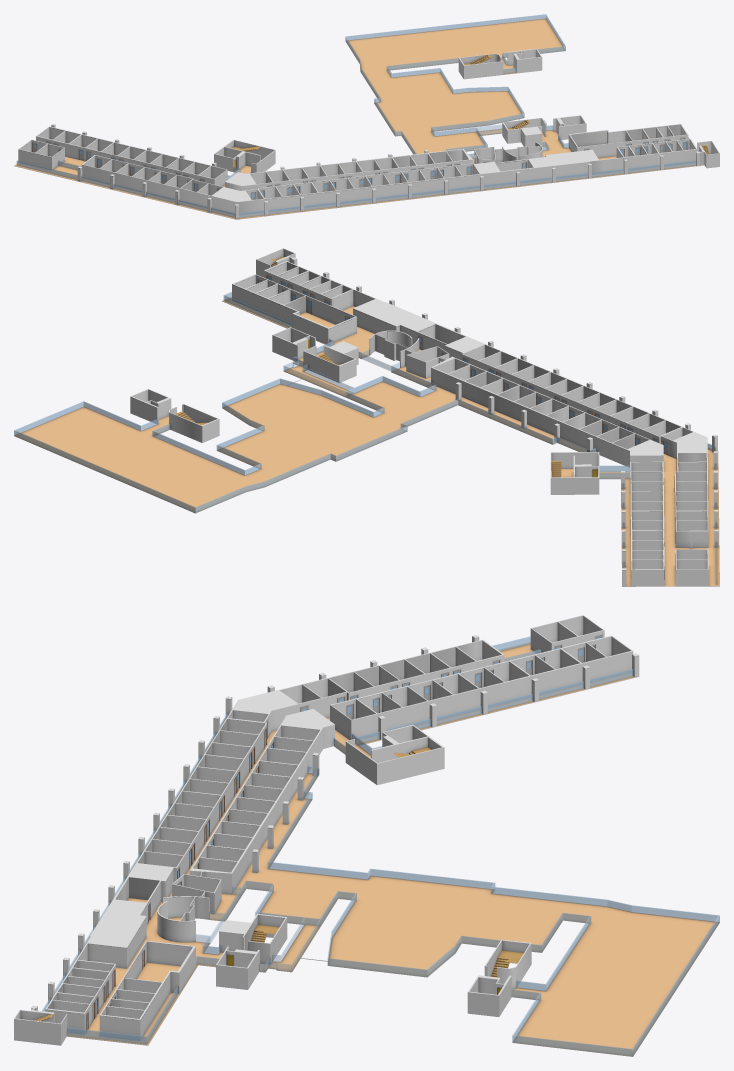
Rendered from COM2_L2.dae.
3 views of the same model, one above another, from view 1: azimuth 30°, elevation 25°; view 2: azimuth 150°, elevation 25°; view 3: azimuth 270°, elevation 25° (orthographic). The views are drawn at different scales.
Parts seen in each view (by area): view 1: COM2_L2_Floor, COM2_L2_LowWall (×2), COM2_L2_Zone3, Cap_2 (×6), COM2_L2_Misc, COM2_L2_Zone6, COM2_L2_Zone2, COM2_L2_Zone5, COM2_L2_Zone1, COM2_L2_Doors, COM2_L2_Pillars, COM2_L2_FloorSide (+1 smaller); view 2: COM2_L2_Floor, COM2_L2_LowWall (×2), Cap_2 (×6), COM2_L2_Zone5, COM2_L2_Zone3, COM2_L2_Misc, COM2_L2_Zone2, COM2_L2_Zone6, COM2_L2_Zone1, COM2_L2_Pillars, COM2_L2_FloorSide, COM2_L2_Doors (+1 smaller); view 3: COM2_L2_Floor, COM2_L2_LowWall (×2), COM2_L2_Zone2, Cap_2 (×6), COM2_L2_Misc, COM2_L2_Zone3, COM2_L2_Zone5, COM2_L2_Zone6, COM2_L2_Zone1, COM2_L2_Pillars, COM2_L2_Doors, COM2_L2_FloorSide (+3 smaller).
Part boxes in pixels (bbox=[...]): COM2_L2_Floor: bbox=[14, 18, 696, 219]; COM2_L2_LowWall (×2): bbox=[17, 14, 695, 217]; COM2_L2_Zone3: bbox=[480, 124, 697, 186]; Cap_2 (×6): bbox=[19, 48, 719, 202]; COM2_L2_Misc: bbox=[214, 49, 719, 172]; COM2_L2_Zone6: bbox=[258, 163, 480, 211]; COM2_L2_Zone2: bbox=[18, 127, 227, 186]; COM2_L2_Zone5: bbox=[225, 147, 503, 190]; COM2_L2_Zone1: bbox=[81, 155, 264, 214]; COM2_L2_Doors: bbox=[32, 137, 687, 199]; COM2_L2_Pillars: bbox=[51, 124, 663, 218]; COM2_L2_FloorSide: bbox=[14, 41, 719, 219]; COM2_L2_Floor: bbox=[14, 297, 719, 586]; COM2_L2_LowWall (×2): bbox=[14, 292, 716, 584]; Cap_2 (×6): bbox=[130, 248, 708, 569]; COM2_L2_Zone5: bbox=[405, 346, 663, 471]; COM2_L2_Zone3: bbox=[232, 262, 465, 360]; COM2_L2_Misc: bbox=[130, 248, 599, 494]; COM2_L2_Zone2: bbox=[630, 462, 708, 586]; COM2_L2_Zone6: bbox=[461, 344, 680, 443]; COM2_L2_Zone1: bbox=[661, 427, 708, 547]; COM2_L2_Pillars: bbox=[323, 273, 718, 586]; COM2_L2_FloorSide: bbox=[14, 301, 719, 586]; COM2_L2_Doors: bbox=[150, 274, 677, 579]; COM2_L2_Floor: bbox=[67, 642, 719, 1056]; COM2_L2_LowWall (×2): bbox=[42, 637, 719, 1055]; COM2_L2_Zone2: bbox=[330, 615, 633, 739]; Cap_2 (×6): bbox=[14, 615, 632, 1023]; COM2_L2_Misc: bbox=[14, 725, 531, 1044]; COM2_L2_Zone3: bbox=[45, 868, 195, 1040]; COM2_L2_Zone5: bbox=[172, 724, 334, 913]; COM2_L2_Zone6: bbox=[138, 719, 267, 882]; COM2_L2_Zone1: bbox=[228, 640, 504, 737]; COM2_L2_Pillars: bbox=[48, 636, 639, 1003]; COM2_L2_Doors: bbox=[86, 634, 602, 1031]; COM2_L2_FloorSide: bbox=[14, 676, 719, 1056].
Bounding box in the file's own units: 145 × 3.42 × 102.
16 materials, 12 textured.
